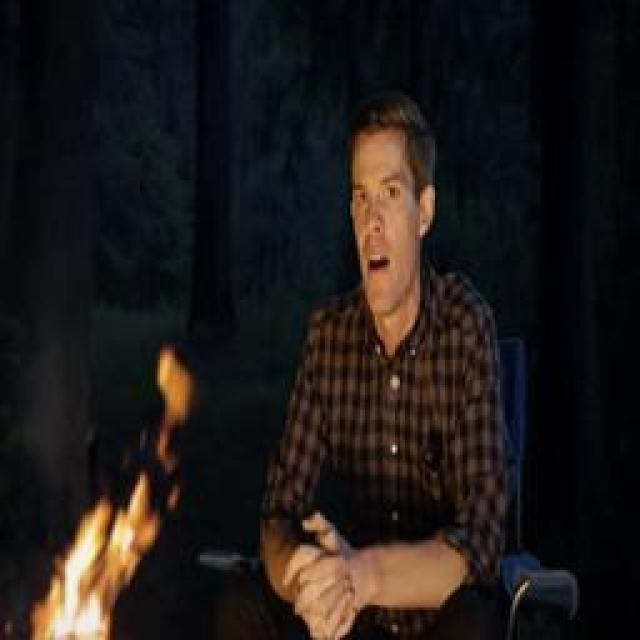Fire: (31, 475, 161, 640), (155, 344, 193, 468)
